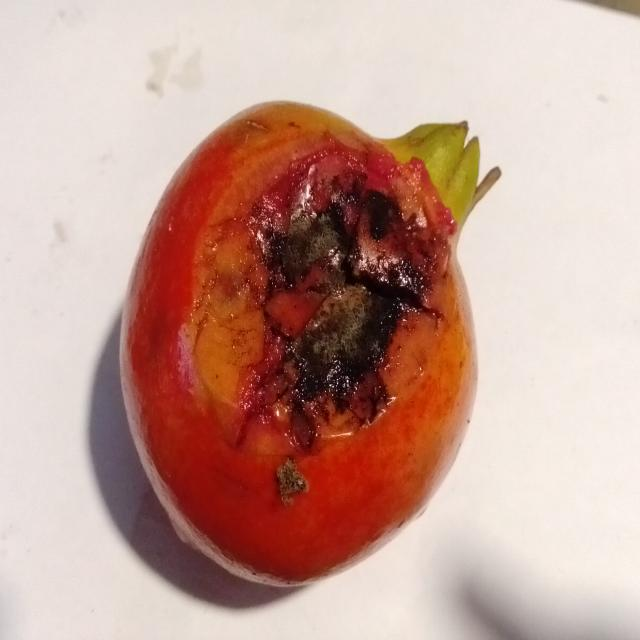Rotten: (112, 96, 494, 595)
